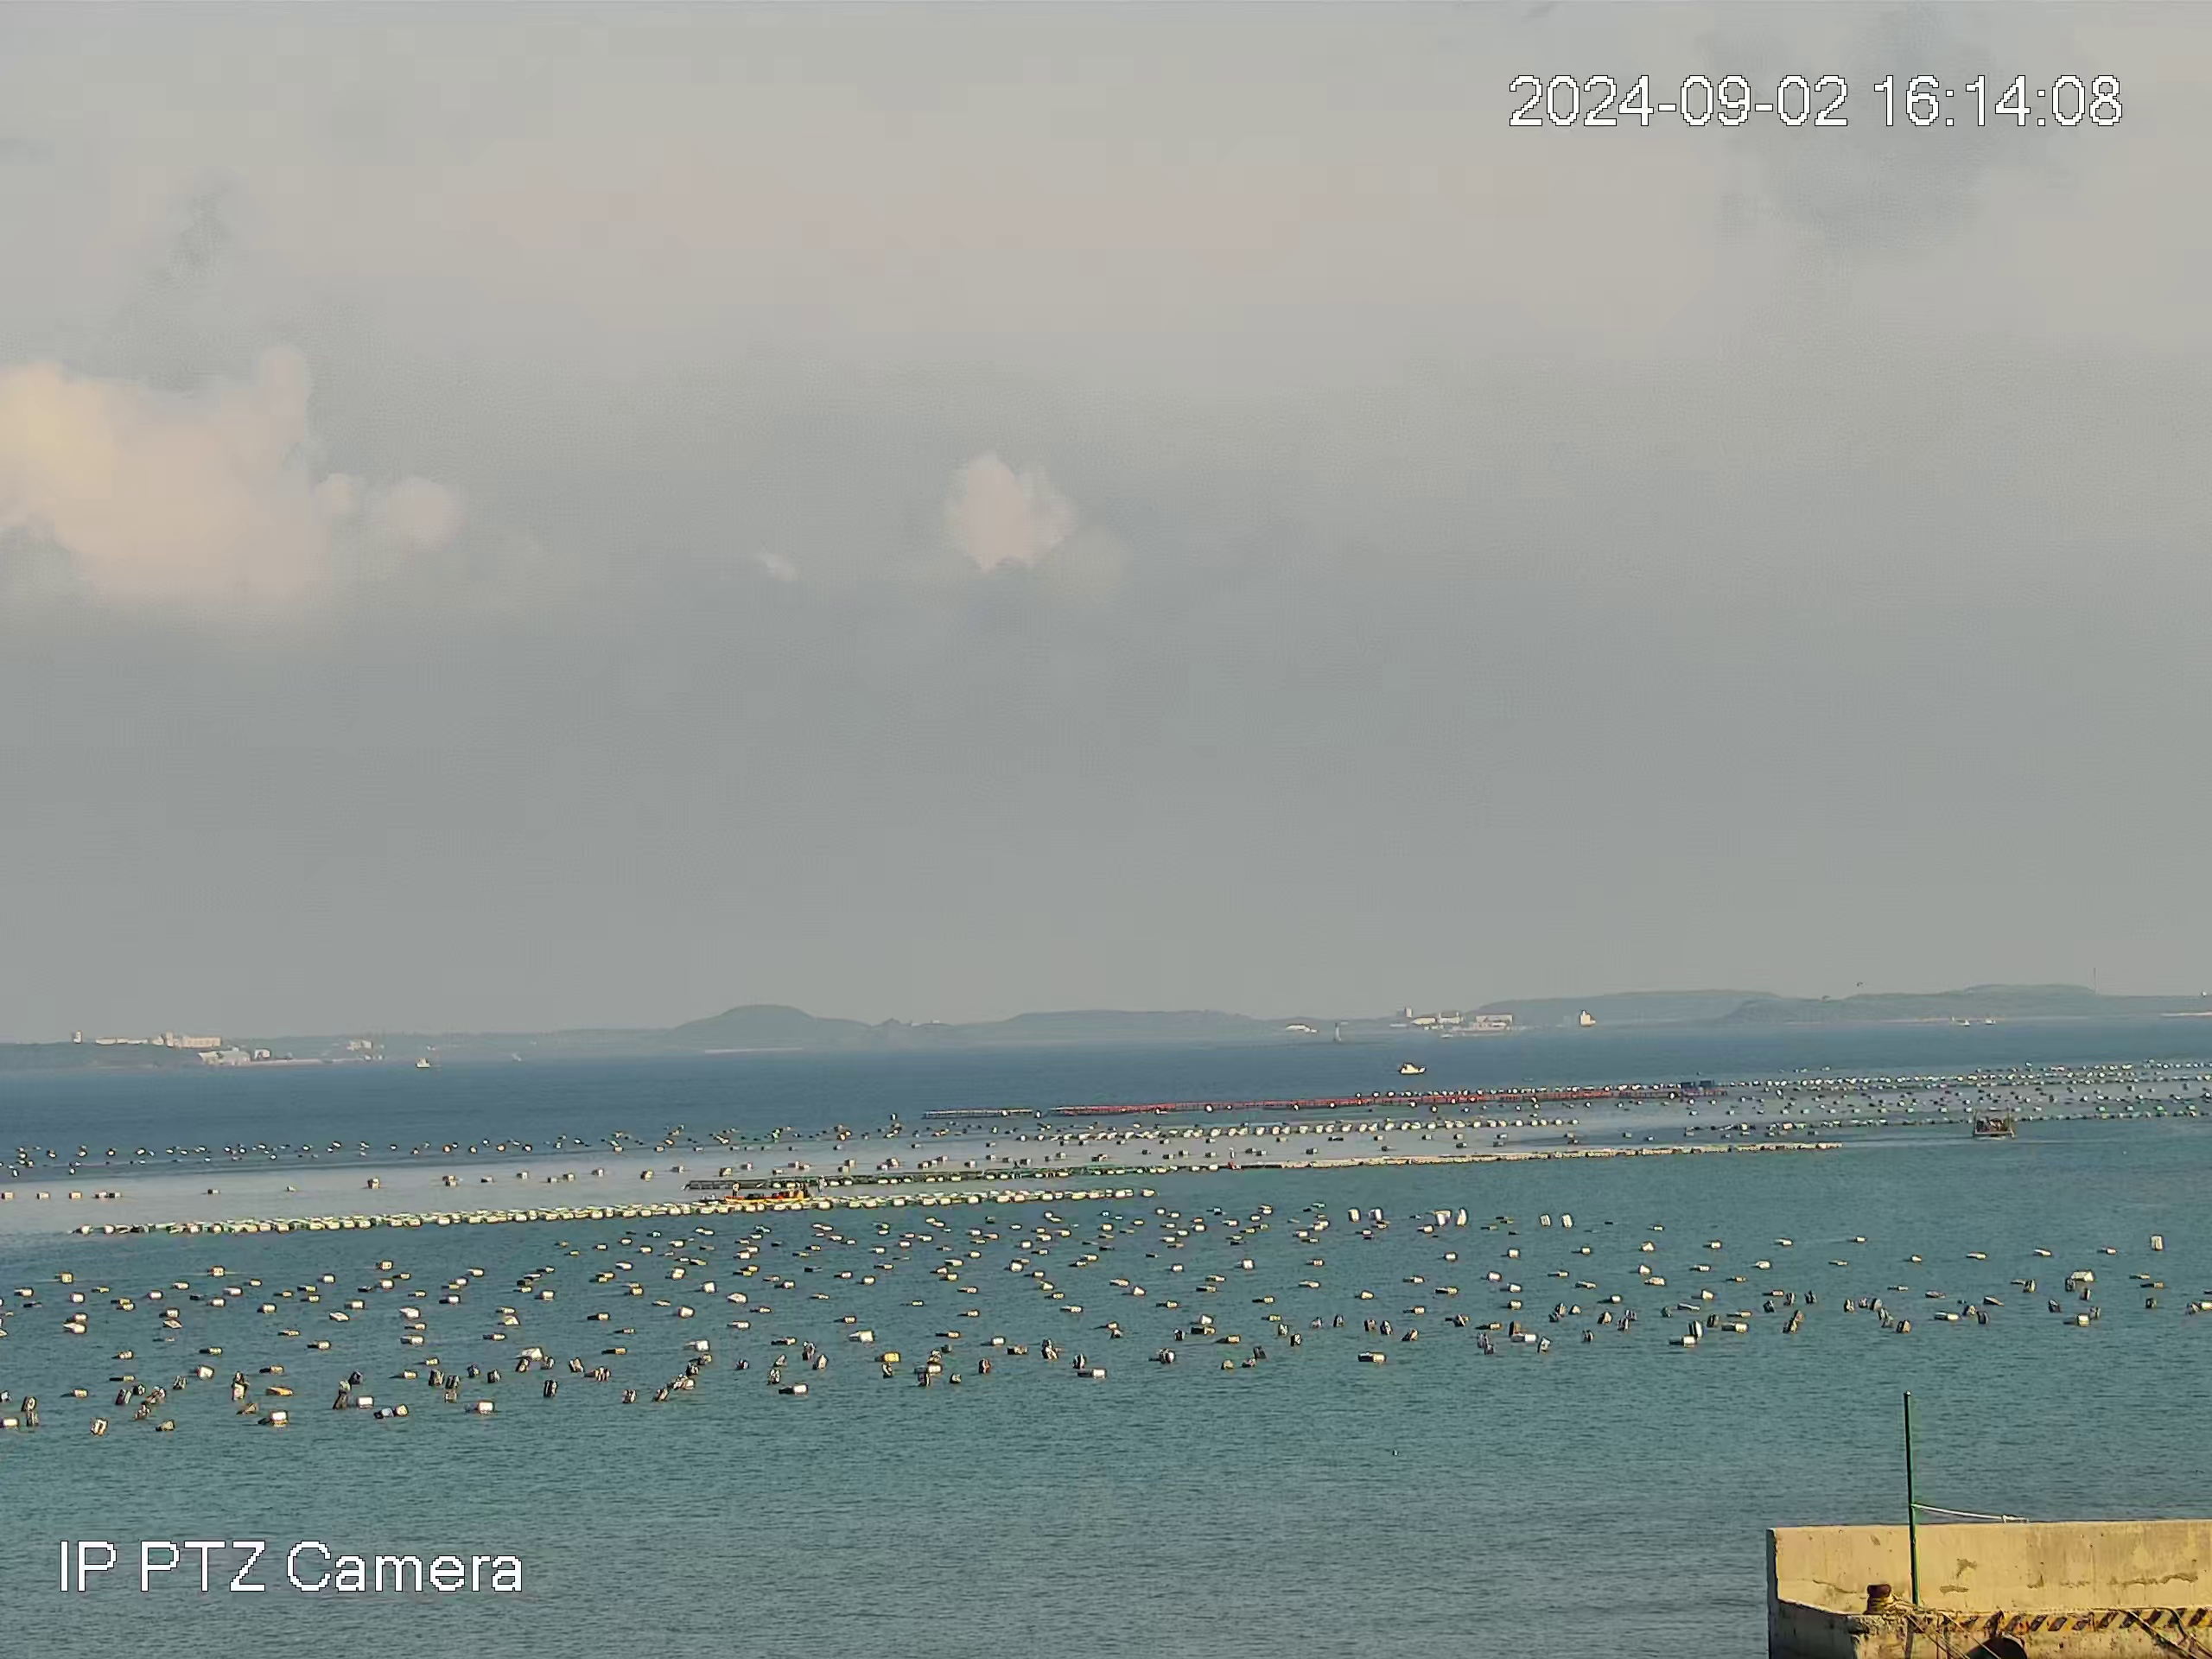boat: (723, 1180, 812, 1204), (1972, 1105, 2015, 1140), (1397, 1060, 1428, 1077)
